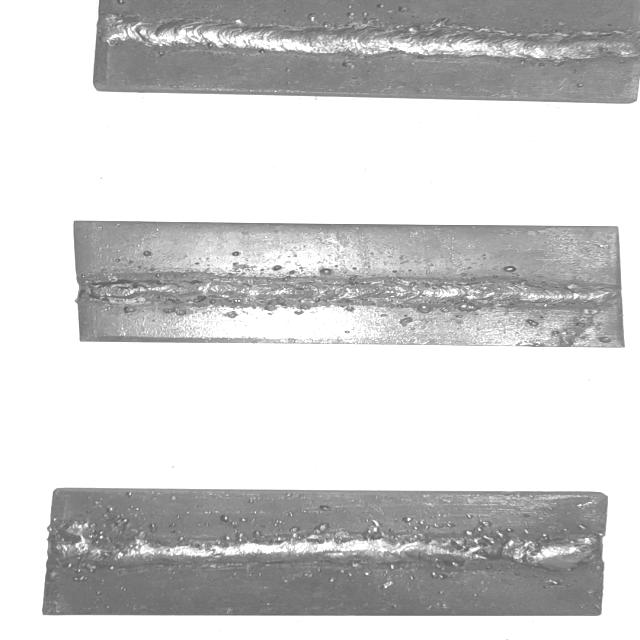Bad Weld: (60, 532, 606, 572), (84, 275, 616, 313)
Defect: (49, 518, 153, 582), (80, 273, 165, 314), (520, 311, 614, 347), (466, 524, 535, 570)
Good Weld: (104, 18, 637, 62)
